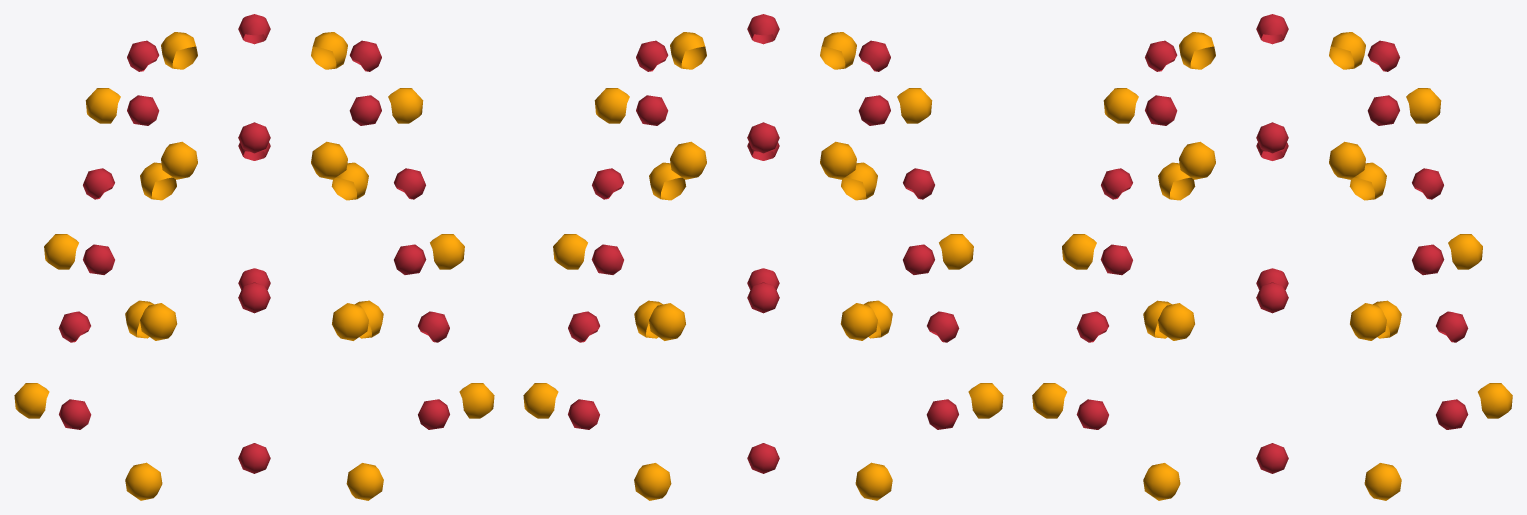
Rendered from Christmass_tree_outdoor_001_toys.fbx.
3 renders of one model, left to right at view 1: azimuth 30°, elevation 25°; view 2: azimuth 150°, elevation 25°; view 3: azimuth 270°, elevation 25°, orthographic.
Parts seen in each view (by area): view 1: Christmass_tree_outdoor_001_toys; view 2: Christmass_tree_outdoor_001_toys; view 3: Christmass_tree_outdoor_001_toys.
Part boxes in pixels (bbox=[...]): Christmass_tree_outdoor_001_toys: bbox=[14, 14, 494, 500]; Christmass_tree_outdoor_001_toys: bbox=[523, 14, 1003, 500]; Christmass_tree_outdoor_001_toys: bbox=[1032, 14, 1512, 500].
Size of the model in its own units: 266 by 286 by 230.
